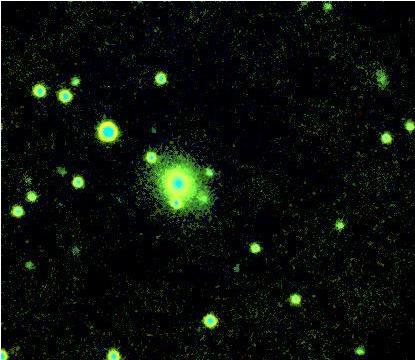star: (189, 183, 219, 213)
